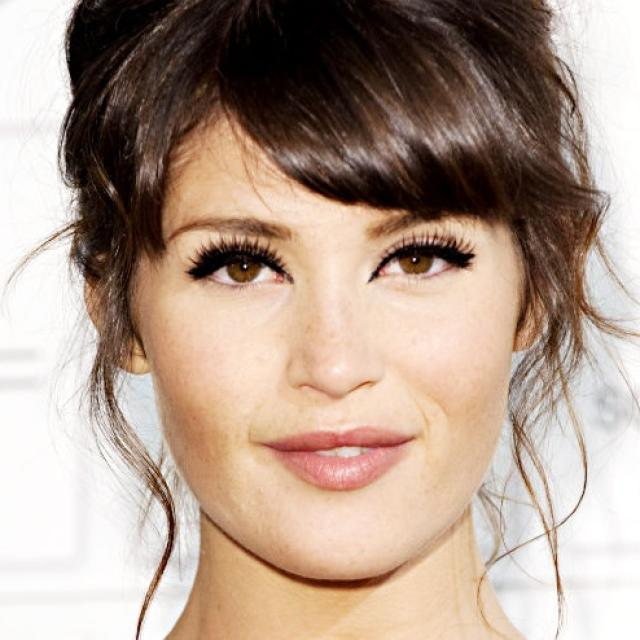Normal: (134, 100, 526, 583)
